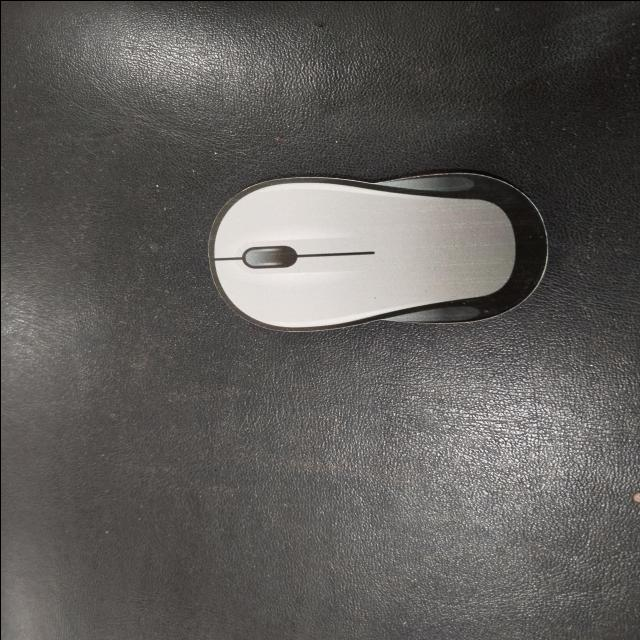Other Objects: (201, 164, 554, 334)
